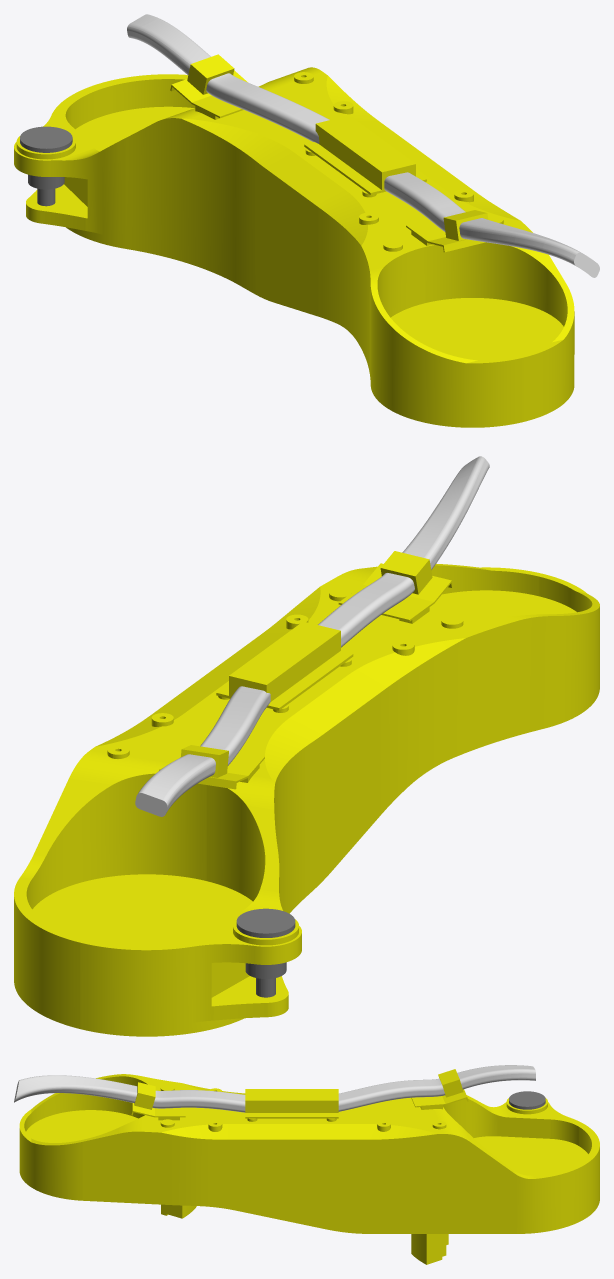
3 renders of one model, top to bottom at view 1: azimuth 30°, elevation 25°; view 2: azimuth 150°, elevation 25°; view 3: azimuth 270°, elevation 25°, orthographic. The views are drawn at different scales.
Visible parts, largest first — view 1: Mesh_0; view 2: Mesh_0; view 3: Mesh_0.
Boxes of the visible parts, x1,y1,x2,y2 form: Mesh_0: (14, 14, 599, 427); Mesh_0: (14, 456, 599, 1036); Mesh_0: (14, 1065, 599, 1264).
Bounding box in the file's own units: 0.5004 × 0.4863 × 1.48.
